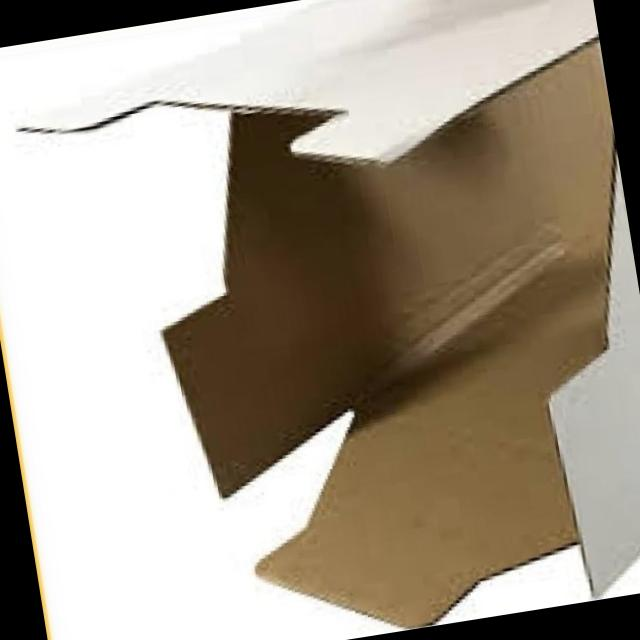cardboard paper: (163, 42, 614, 624)
